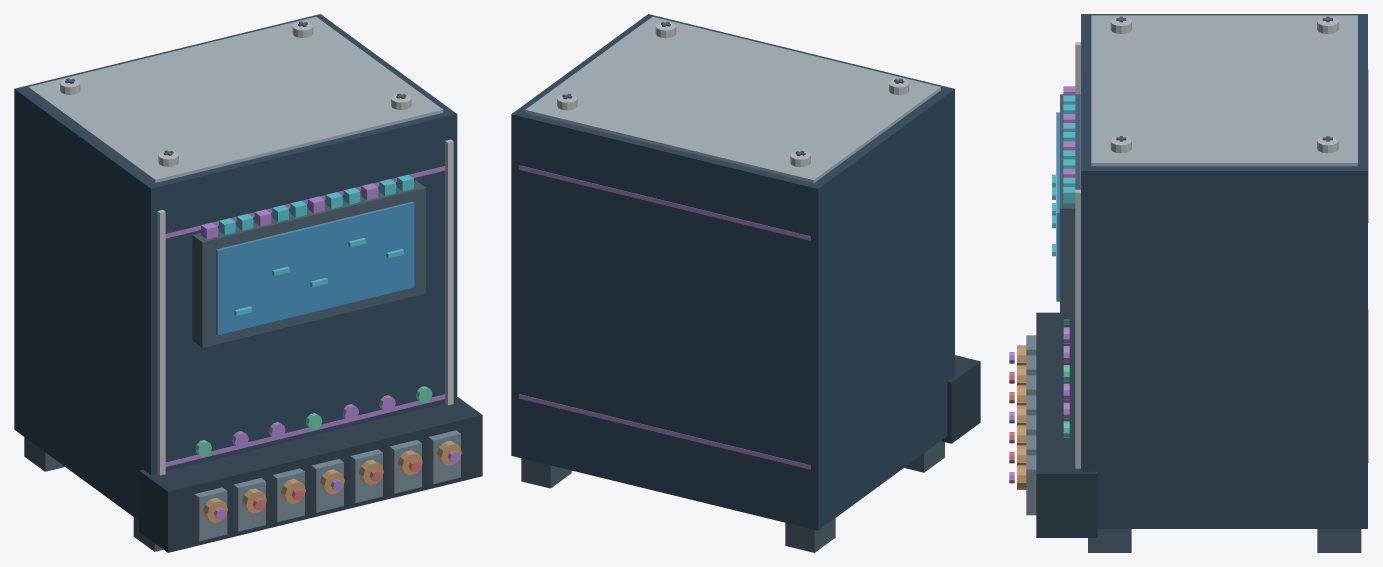
Rendered from 36_L75_ResidualGasDiagnosticModule.glb.
3 renders of one model, left to right at view 1: azimuth 30°, elevation 25°; view 2: azimuth 150°, elevation 25°; view 3: azimuth 270°, elevation 25°, orthographic. The views are drawn at different scales.
Visible parts, largest first — view 1: ResidualGasDiagnosticModule_Node_0000, ResidualGasDiagnosticModule_Node_0007, ResidualGasDiagnosticModule_Node_0042, ResidualGasDiagnosticModule_Node_0025, ResidualGasDiagnosticModule_Node_0024, ResidualGasDiagnosticModule_Node_0006, ResidualGasDiagnosticModule_Node_0005, ResidualGasDiagnosticModule_Node_0021, ResidualGasDiagnosticModule_Node_0043, ResidualGasDiagnosticModule_Node_0046, ResidualGasDiagnosticModule_Node_0049, ResidualGasDiagnosticModule_Node_0055 (+5 smaller); view 2: ResidualGasDiagnosticModule_Node_0000, ResidualGasDiagnosticModule_Node_0007, ResidualGasDiagnosticModule_Node_0042, ResidualGasDiagnosticModule_Node_0020, ResidualGasDiagnosticModule_Node_0022, ResidualGasDiagnosticModule_Node_0038, ResidualGasDiagnosticModule_Node_0040, ResidualGasDiagnosticModule_Node_0039; view 3: ResidualGasDiagnosticModule_Node_0000, ResidualGasDiagnosticModule_Node_0007, ResidualGasDiagnosticModule_Node_0042, ResidualGasDiagnosticModule_Node_0024, ResidualGasDiagnosticModule_Node_0006, ResidualGasDiagnosticModule_Node_0040, ResidualGasDiagnosticModule_Node_0041, ResidualGasDiagnosticModule_Node_0025, ResidualGasDiagnosticModule_Node_0061.
Part boxes in pixels (left/top/right/bottom): ResidualGasDiagnosticModule_Node_0000: left=14, top=14, right=457, bottom=520; ResidualGasDiagnosticModule_Node_0007: left=28, top=16, right=443, bottom=182; ResidualGasDiagnosticModule_Node_0042: left=139, top=397, right=482, bottom=552; ResidualGasDiagnosticModule_Node_0025: left=216, top=201, right=414, bottom=335; ResidualGasDiagnosticModule_Node_0024: left=192, top=180, right=425, bottom=347; ResidualGasDiagnosticModule_Node_0006: left=445, top=139, right=453, bottom=405; ResidualGasDiagnosticModule_Node_0005: left=157, top=209, right=165, bottom=475; ResidualGasDiagnosticModule_Node_0021: left=165, top=394, right=445, bottom=466; ResidualGasDiagnosticModule_Node_0043: left=194, top=487, right=227, bottom=541; ResidualGasDiagnosticModule_Node_0046: left=233, top=478, right=265, bottom=531; ResidualGasDiagnosticModule_Node_0049: left=272, top=468, right=304, bottom=522; ResidualGasDiagnosticModule_Node_0055: left=350, top=449, right=382, bottom=503; ResidualGasDiagnosticModule_Node_0000: left=511, top=14, right=954, bottom=530; ResidualGasDiagnosticModule_Node_0007: left=525, top=16, right=940, bottom=183; ResidualGasDiagnosticModule_Node_0042: left=941, top=355, right=980, bottom=443; ResidualGasDiagnosticModule_Node_0020: left=518, top=394, right=810, bottom=469; ResidualGasDiagnosticModule_Node_0022: left=518, top=165, right=810, bottom=240; ResidualGasDiagnosticModule_Node_0038: left=785, top=518, right=835, bottom=552; ResidualGasDiagnosticModule_Node_0040: left=521, top=458, right=571, bottom=488; ResidualGasDiagnosticModule_Node_0039: left=904, top=441, right=944, bottom=472; ResidualGasDiagnosticModule_Node_0000: left=1081, top=14, right=1367, bottom=528; ResidualGasDiagnosticModule_Node_0007: left=1091, top=15, right=1357, bottom=166; ResidualGasDiagnosticModule_Node_0042: left=1036, top=312, right=1097, bottom=537; ResidualGasDiagnosticModule_Node_0024: left=1060, top=94, right=1080, bottom=319; ResidualGasDiagnosticModule_Node_0006: left=1075, top=189, right=1080, bottom=468; ResidualGasDiagnosticModule_Node_0040: left=1317, top=529, right=1361, bottom=552; ResidualGasDiagnosticModule_Node_0041: left=1088, top=529, right=1131, bottom=552; ResidualGasDiagnosticModule_Node_0025: left=1056, top=112, right=1059, bottom=301; ResidualGasDiagnosticModule_Node_0061: left=1026, top=455, right=1036, bottom=515.
Size of the model in its own units: 1.13 by 1.31 by 1.06.
